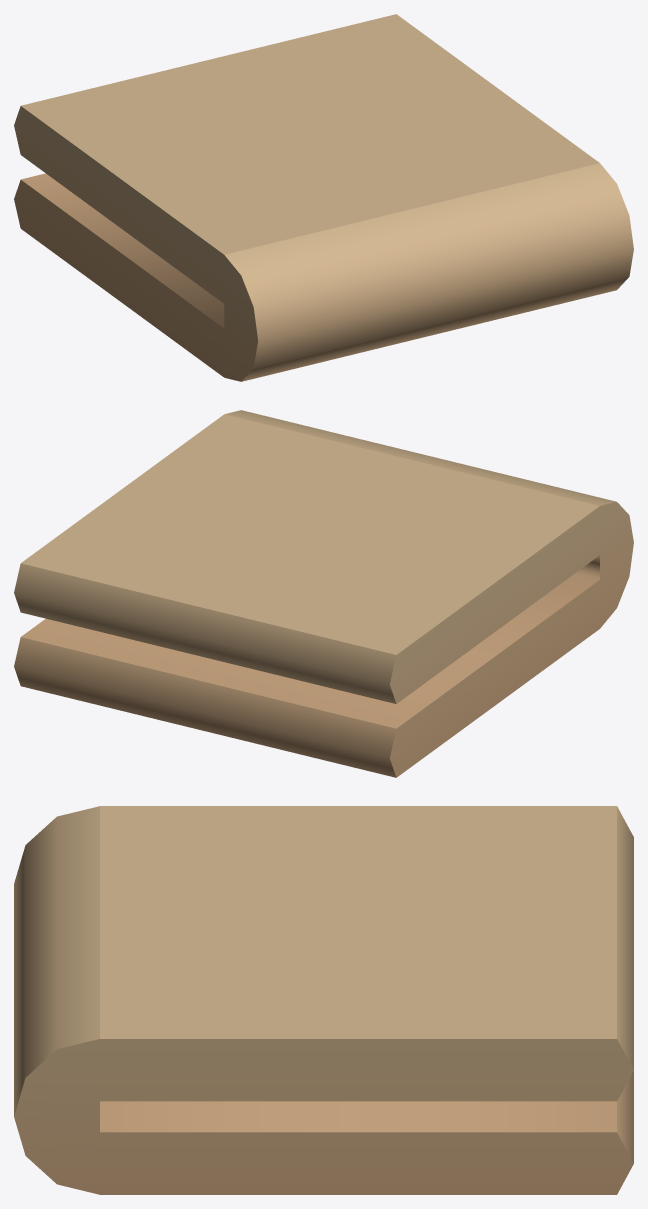
Rendered from plaid_0.glb.
3 renders of one model, top to bottom at view 1: azimuth 30°, elevation 25°; view 2: azimuth 150°, elevation 25°; view 3: azimuth 270°, elevation 25°, orthographic. The views are drawn at different scales.
Visible parts, largest first — view 1: plaid; view 2: plaid; view 3: plaid.
Part boxes in pixels (x1=…): plaid: x1=14, y1=14, x2=633, y2=381; plaid: x1=14, y1=410, x2=633, y2=777; plaid: x1=14, y1=806, x2=633, y2=1194.
Bounding box in the file's own units: 0.4 × 0.125 × 0.4502.
